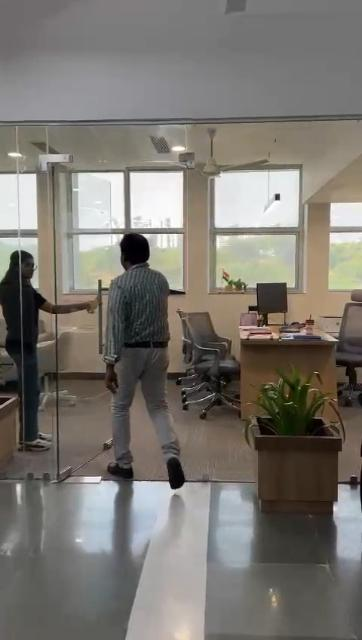floor: (0, 442, 362, 637)
moving-obj: (82, 238, 232, 480), (7, 245, 103, 450)
object: (247, 381, 351, 525), (174, 306, 238, 426), (326, 291, 362, 404), (235, 284, 299, 332)
wall: (302, 165, 326, 312), (184, 182, 208, 292), (38, 178, 56, 278)
